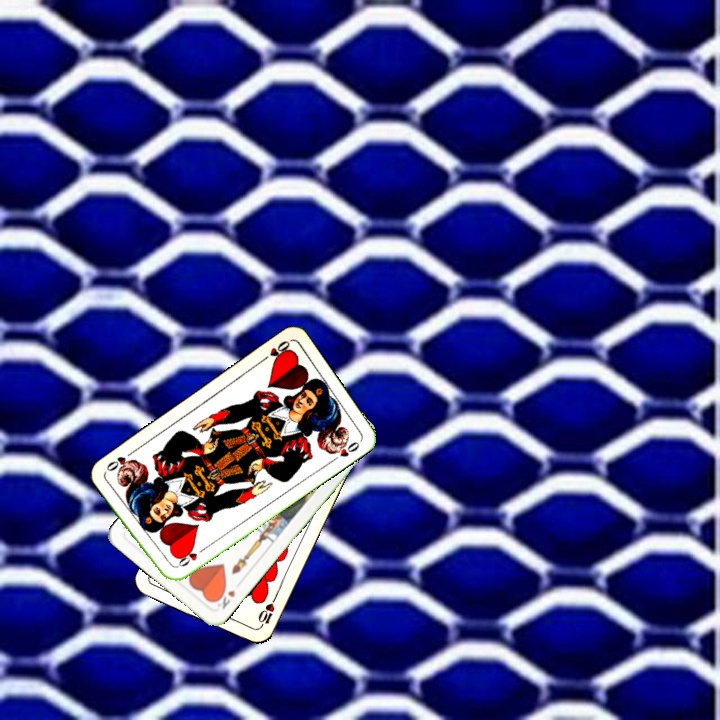H10: (254, 599, 277, 631)
HK: (211, 584, 238, 612)
HO: (257, 336, 293, 365), (169, 544, 207, 571)
